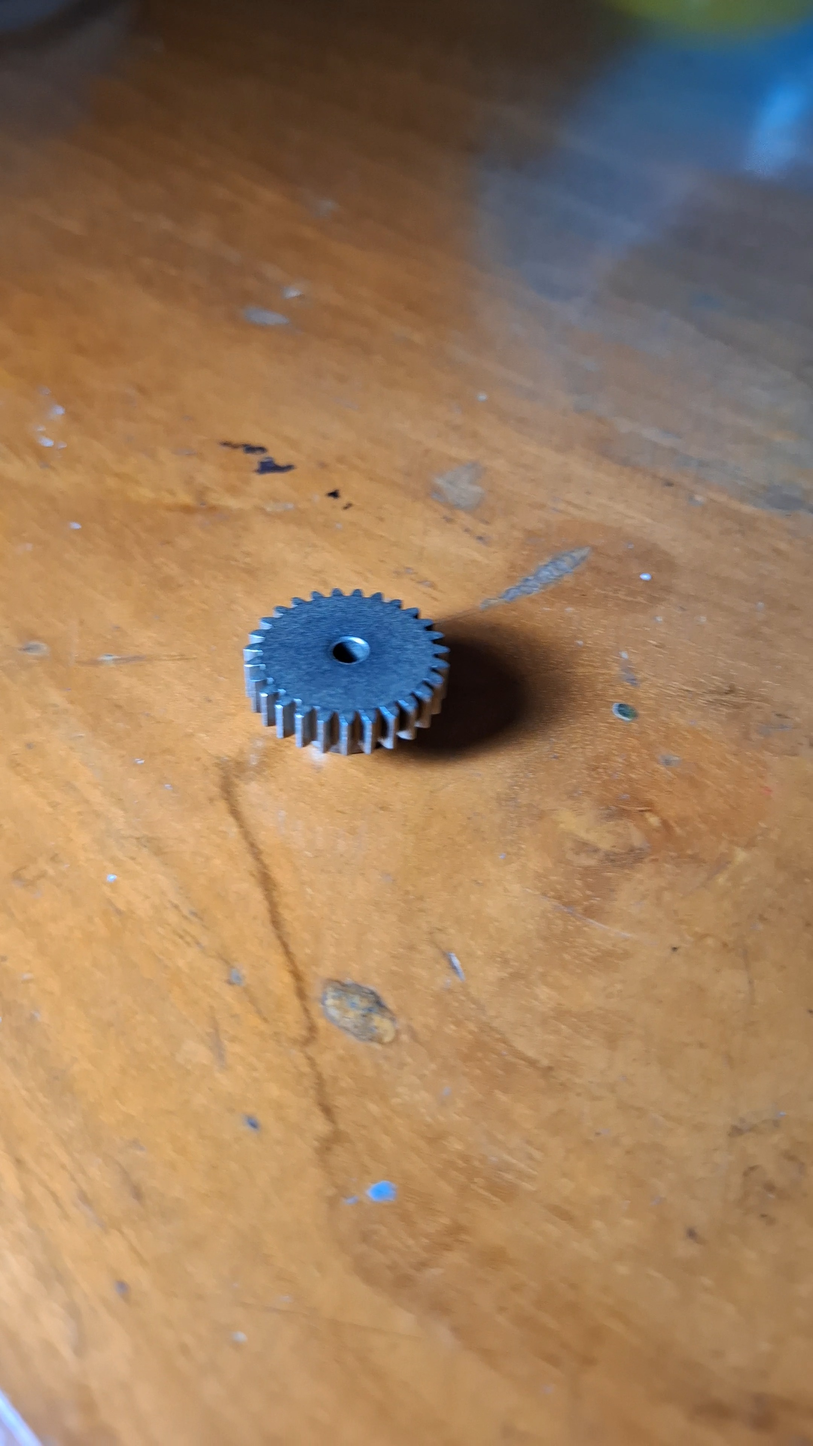spur gear: (244, 589, 448, 754)
